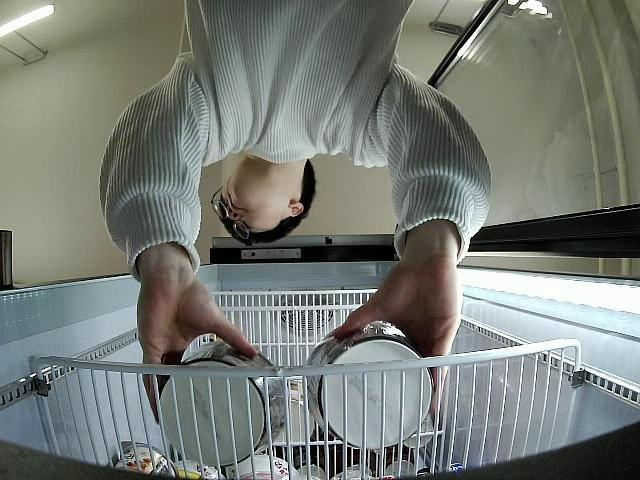07_buldak_L: (302, 320, 432, 448), (159, 344, 286, 466)
